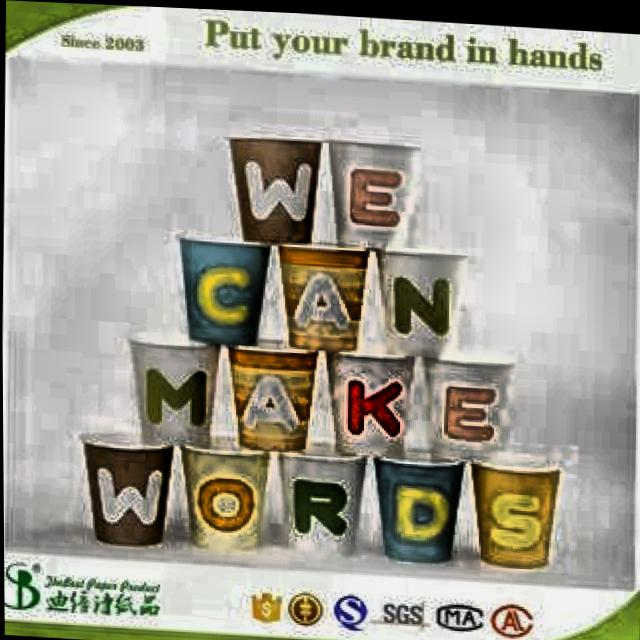Cup: (411, 336, 519, 458), (363, 233, 470, 355), (465, 447, 569, 572), (362, 446, 469, 559), (121, 331, 218, 455), (269, 231, 369, 351), (221, 332, 320, 451), (179, 429, 276, 549), (77, 431, 180, 542), (225, 126, 324, 240), (268, 438, 366, 552), (172, 230, 271, 341), (324, 129, 421, 241), (325, 339, 416, 454)
